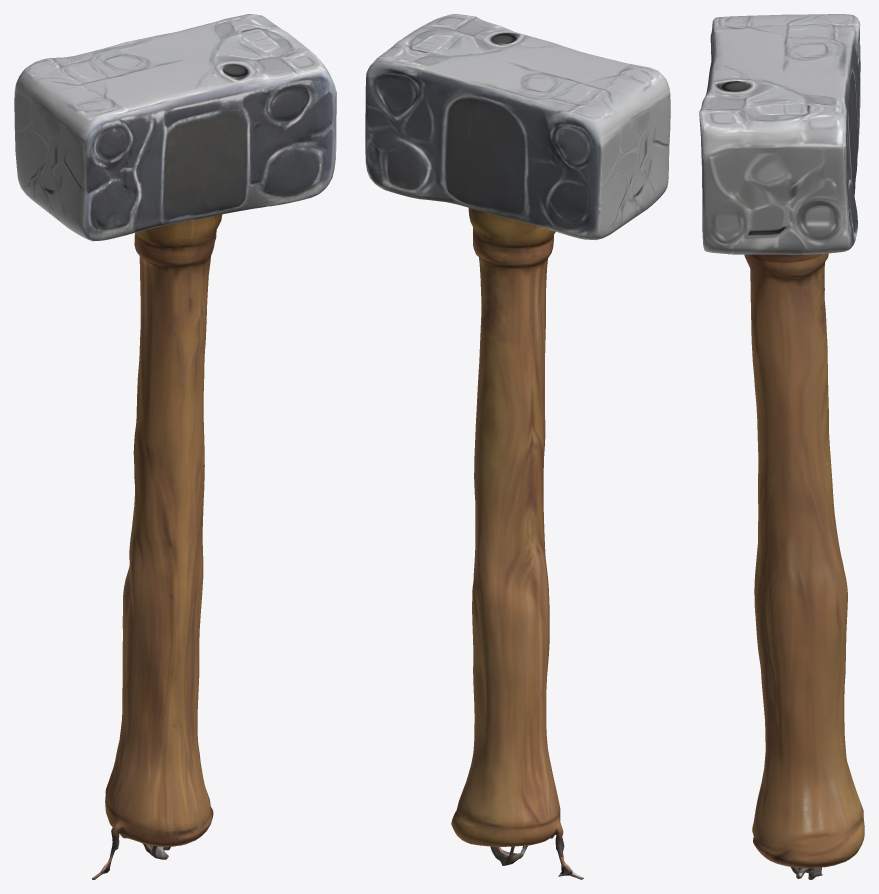
File: sledgeHammer.fbx
3 renders of one model, left to right at view 1: azimuth 30°, elevation 25°; view 2: azimuth 150°, elevation 25°; view 3: azimuth 270°, elevation 25°, orthographic. The views are drawn at different scales.
Parts seen in each view (by area): view 1: Mesh_0.008; view 2: Mesh_0.008; view 3: Mesh_0.008.
Part boxes in pixels (left/top/right/bottom): Mesh_0.008: left=14, top=14, right=336, bottom=879; Mesh_0.008: left=365, top=14, right=670, bottom=879; Mesh_0.008: left=699, top=14, right=864, bottom=879.
Size of the model in its own units: 64.73 by 198 by 36.42.
1 material, 1 textured.
